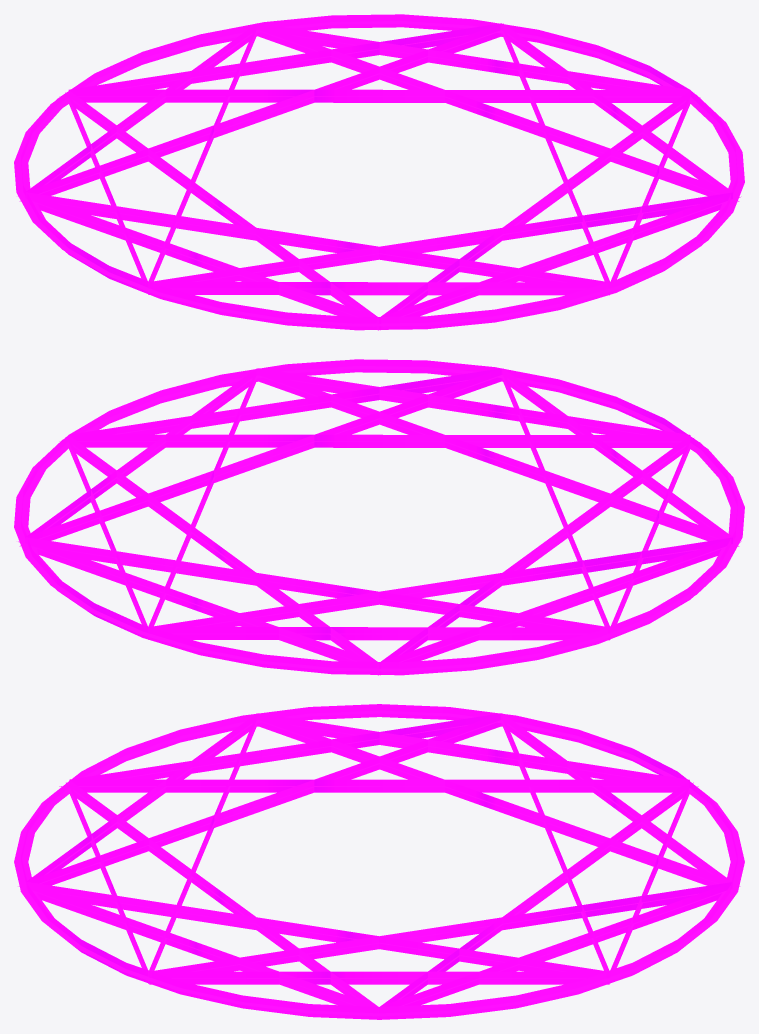
Rendered from Magi_circulo_correntesglb.glb.
3 views of the same model, one above another, from view 1: azimuth 30°, elevation 25°; view 2: azimuth 150°, elevation 25°; view 3: azimuth 270°, elevation 25° (orthographic).
Visible parts, largest first — view 1: Plane; view 2: Plane; view 3: Plane.
Part boxes in pixels (x1,y1,x2,y2): Plane: (14,14,744,330); Plane: (14,359,744,675); Plane: (14,704,744,1019).
Size of the model in its own units: 2.04 by 0.04 by 2.04.
